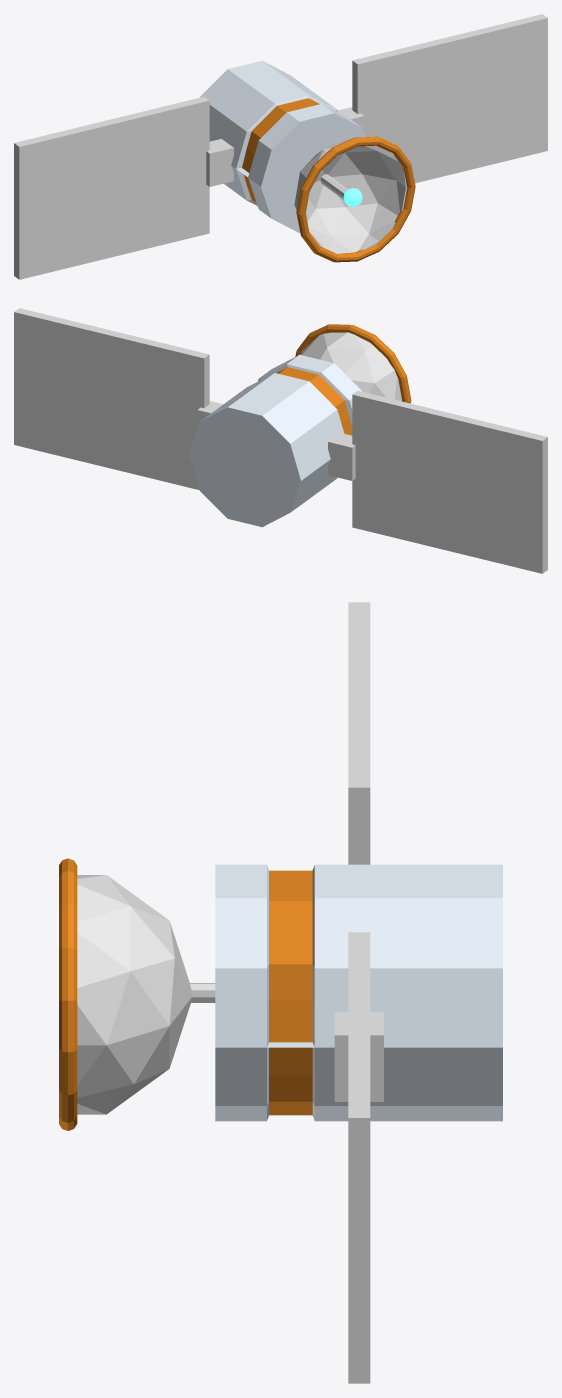
File: satelite.fbx
3 renders of one model, top to bottom at view 1: azimuth 30°, elevation 25°; view 2: azimuth 150°, elevation 25°; view 3: azimuth 270°, elevation 25°, orthographic. The views are drawn at different scales.
Parts seen in each view (by area): view 1: Cube.001, Cube, Icosphere, Torus.003, Cube.002; view 2: Cube.001, Cube, Icosphere, Torus.003, Cube.002; view 3: Cube, Icosphere, Cube.001, Torus.003, Cube.002.
Part boxes in pixels (left/top/right/bottom): Cube.001: left=14, top=14, right=547, bottom=279; Cube: left=200, top=60, right=365, bottom=233; Icosphere: left=294, top=137, right=406, bottom=253; Torus.003: left=296, top=136, right=415, bottom=262; Cube.002: left=206, top=107, right=364, bottom=186; Cube.001: left=14, top=308, right=547, bottom=573; Cube: left=189, top=354, right=361, bottom=527; Icosphere: left=300, top=332, right=401, bottom=401; Torus.003: left=295, top=324, right=411, bottom=403; Cube.002: left=197, top=401, right=355, bottom=480; Cube: left=215, top=864, right=502, bottom=1121; Icosphere: left=77, top=875, right=191, bottom=1114; Cube.001: left=348, top=602, right=370, bottom=1383; Torus.003: left=59, top=858, right=77, bottom=1130; Cube.002: left=334, top=1011, right=383, bottom=1101.
Size of the model in its own units: 2216 by 532 by 806.
